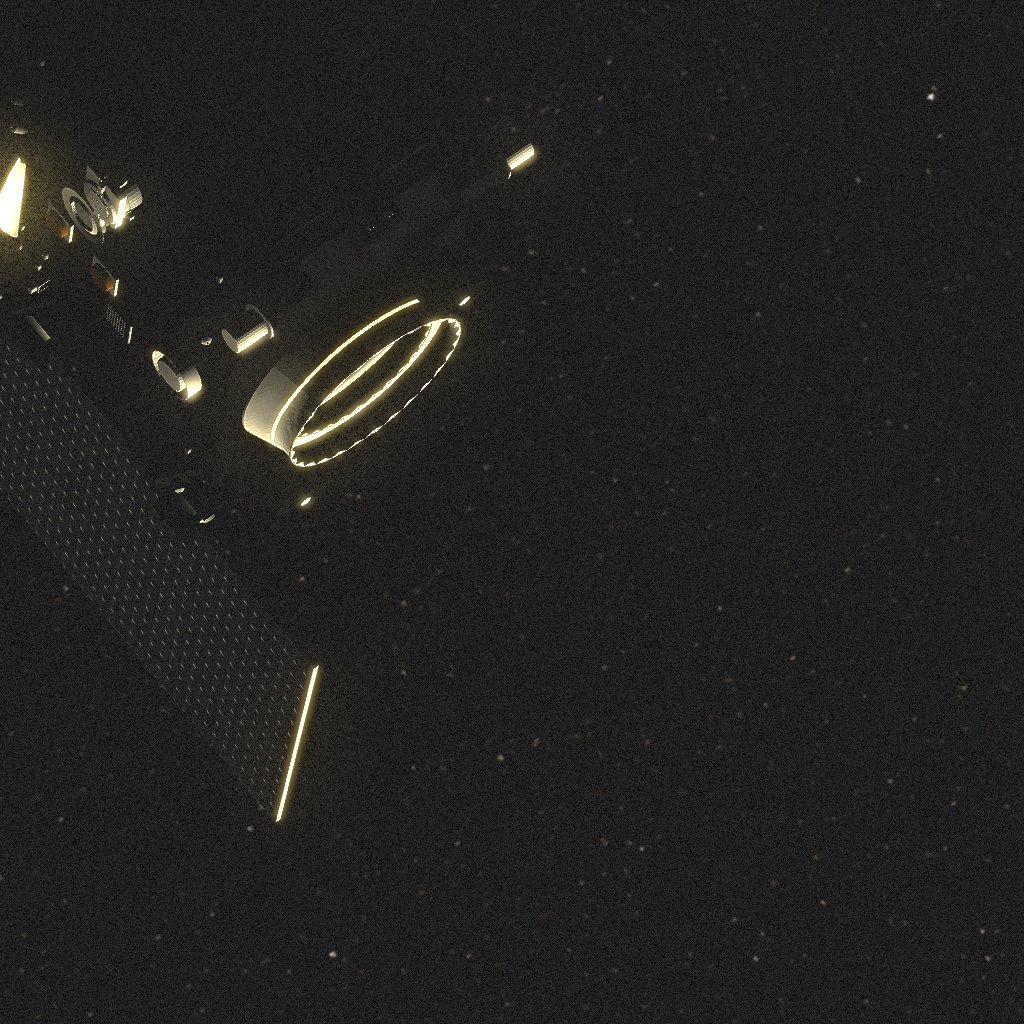proba_3_csc: (0, 0, 534, 822)
